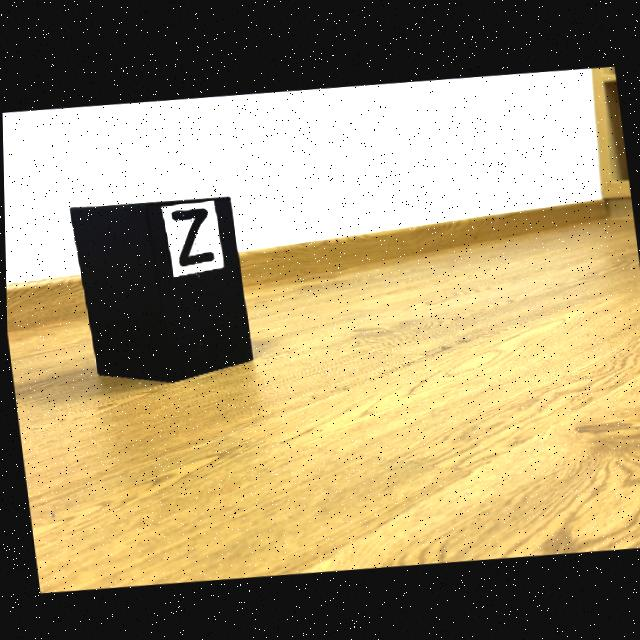Z: (171, 208, 214, 266)
